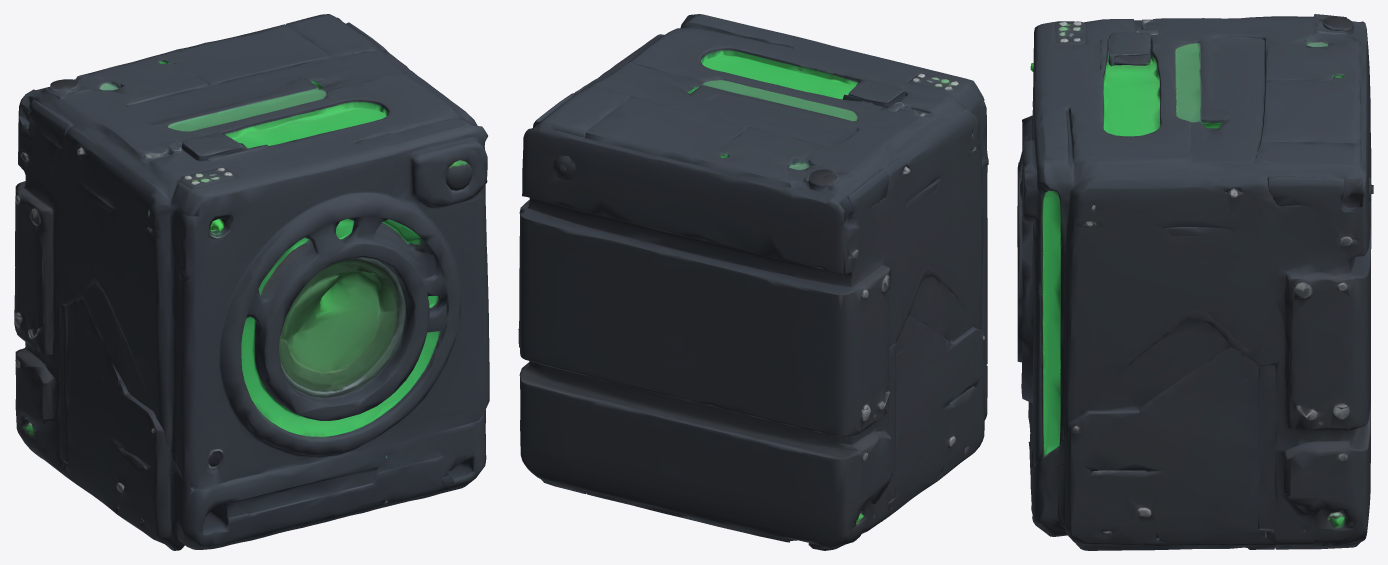
File: tripo_convert_b935ae5f-256e-4320-a1b2-ec059f519b94.fbx
3 views of the same model, side by side, from view 1: azimuth 30°, elevation 25°; view 2: azimuth 150°, elevation 25°; view 3: azimuth 270°, elevation 25° (orthographic). The views are drawn at different scales.
Visible parts, largest first — view 1: tripo_node_b935ae5f; view 2: tripo_node_b935ae5f; view 3: tripo_node_b935ae5f.
Boxes of the visible parts, left/top/right/bottom form: tripo_node_b935ae5f: left=14, top=14, right=489, bottom=550; tripo_node_b935ae5f: left=518, top=14, right=988, bottom=550; tripo_node_b935ae5f: left=1017, top=14, right=1373, bottom=550.
Bounding box in the file's own units: 0.9589 × 0.9781 × 0.8006.
1 material, 1 textured.
